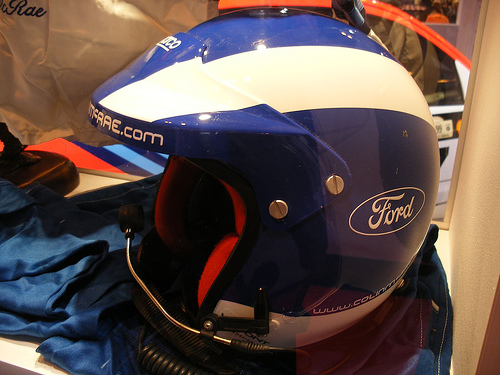helmet: (117, 25, 423, 328)
